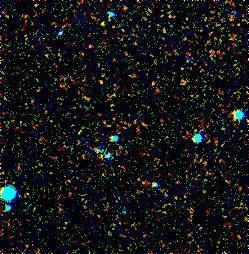star: (90, 8, 120, 38)
